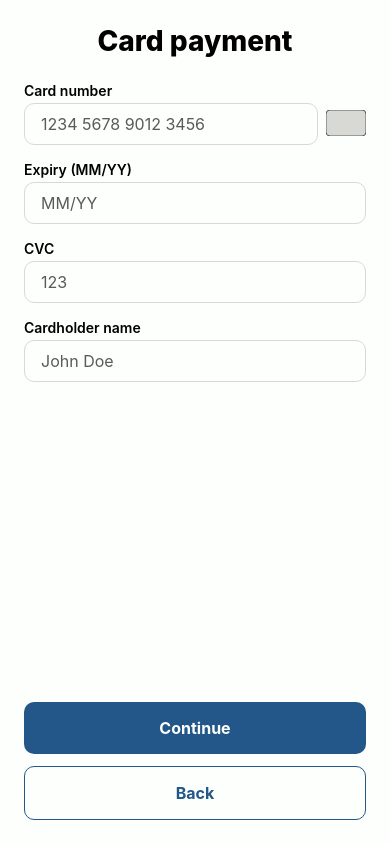
Test case: CardScreen › shows the Visa brand logo as a valid Visa number is typed
Type "4242424242424242" into the field named "Card number" at (171, 124), box [24,103,318,145]
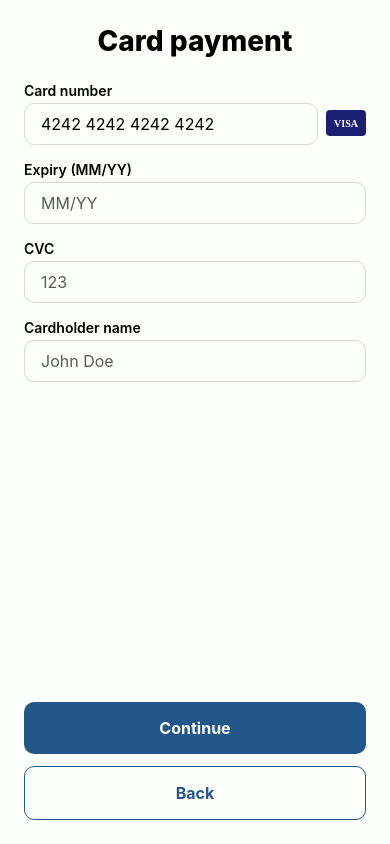
Check: the element with test id "card-brand-logo-visa" is shown, box [326,110,366,136]
